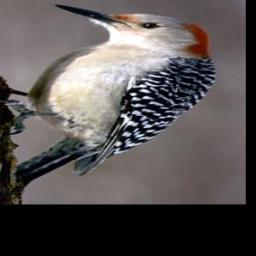Woodpecker: (0, 3, 218, 177)
